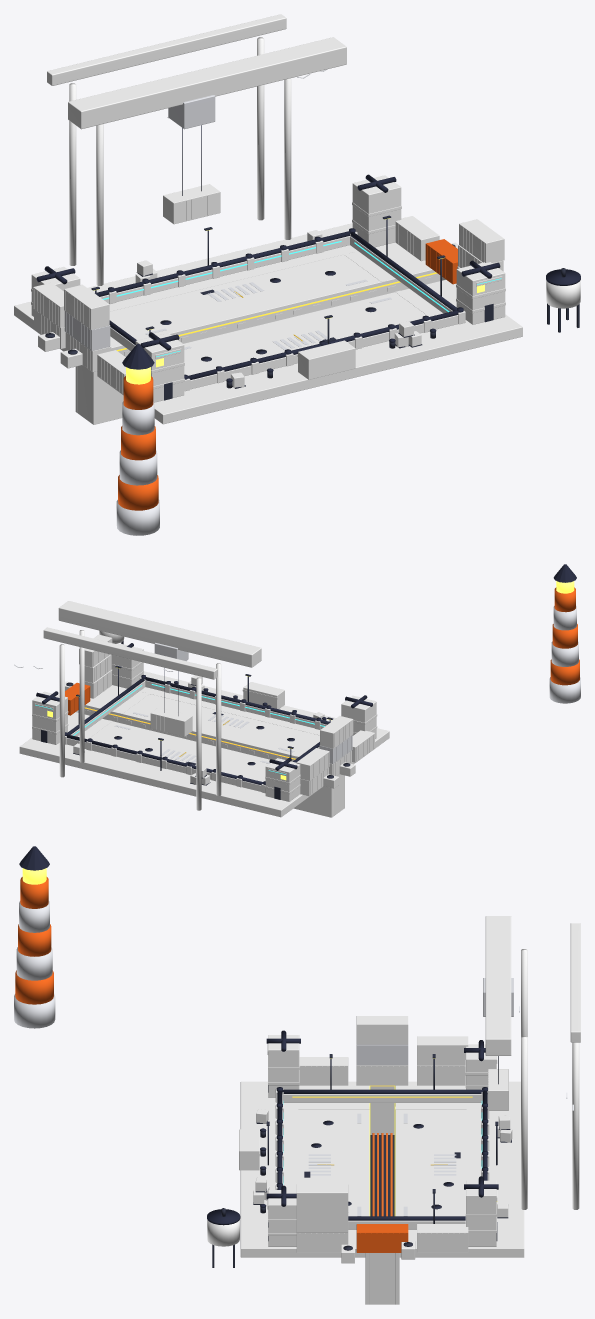
The model's file is toit_long.glb.
The picture shows the model from 3 angles, top to bottom: view 1: azimuth 30°, elevation 25°; view 2: azimuth 150°, elevation 25°; view 3: azimuth 270°, elevation 25°; orthographic projection. The views are drawn at different scales.
Visible parts, largest first — view 1: DalleS, DalleN, PortiquePoutre, PortiquePoutreArriere, TourB2, PuitsL1, TourB1, ParapetL1, ConteneurSuspendu, Conteneur, PuitsL-1, TourO1 (+26 smaller); view 2: DalleN, DalleS, PortiquePoutre, PortiquePoutreArriere, PuitsL-1, TourB2, ParapetL1, TourO2, ParapetL-1, ConteneurSuspendu, PuitsL1, TourO1 (+28 smaller); view 3: DalleN, DalleS, PortiquePoutre, ParapetP-1, TourB2, Conteneur3, Conteneur8, TourO1, Conteneur10, Conteneur5, PuitsFond, Conteneur9 (+27 smaller).
Boxes of the visible parts, x1,y1,x2,y2 form: DalleS: (97,280,522,424); DalleN: (14,223,440,354); PortiquePoutre: (68,37,346,129); PortiquePoutreArriere: (47,14,286,85); TourB2: (352,175,401,247); PuitsL1: (75,268,440,412); TourB1: (456,262,505,324); ParapetL1: (100,236,349,303); ConteneurSuspendu: (163,184,220,224); Conteneur: (298,340,355,379); PuitsL-1: (91,280,444,424); TourO1: (135,333,184,402); DalleN: (19,712,323,817); DalleS: (84,671,389,764); PortiquePoutre: (58,601,261,667); PortiquePoutreArriere: (43,627,217,679); PuitsL-1: (84,704,344,808); TourB2: (32,691,67,744); ParapetL1: (66,738,261,791); TourO2: (265,758,300,801); ParapetL-1: (145,680,326,729); ConteneurSuspendu: (150,707,192,736); PuitsL1: (75,712,333,817); TourO1: (341,695,376,738); DalleN: (396,1081,524,1257); DalleS: (240,1081,368,1257); PortiquePoutre: (485,916,511,1055); ParapetP-1: (283,1094,482,1102); TourB2: (466,1180,496,1246); Conteneur3: (356,1016,408,1044); Conteneur8: (296,1184,348,1212); TourO1: (268,1035,299,1097); Conteneur10: (417,1224,468,1252); Conteneur5: (417,1036,468,1065); PuitsFond: (370,1135,394,1216); Conteneur9: (356,1224,408,1252).
Bounding box in the file's own units: 71.35 × 31.25 × 66.
